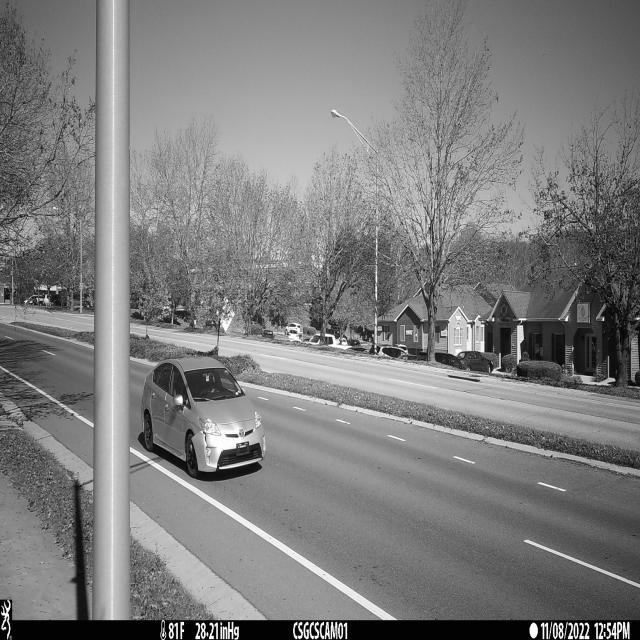Hatchback: (140, 357, 265, 481)
